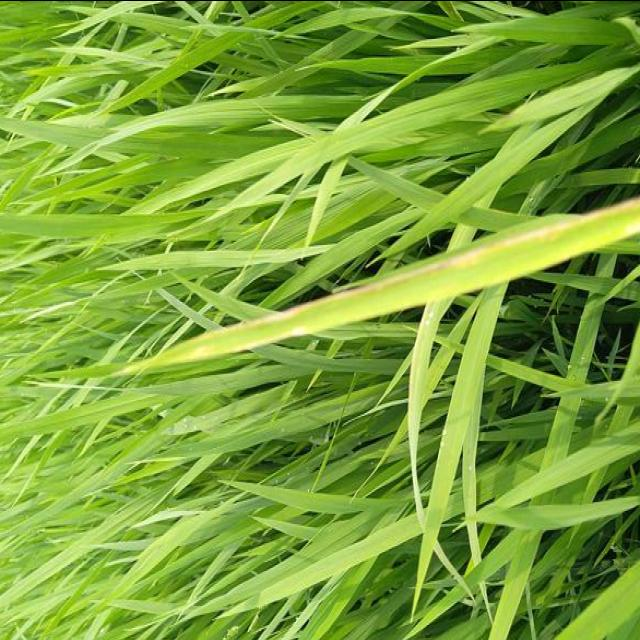Leaf Blight: (145, 199, 635, 367)
